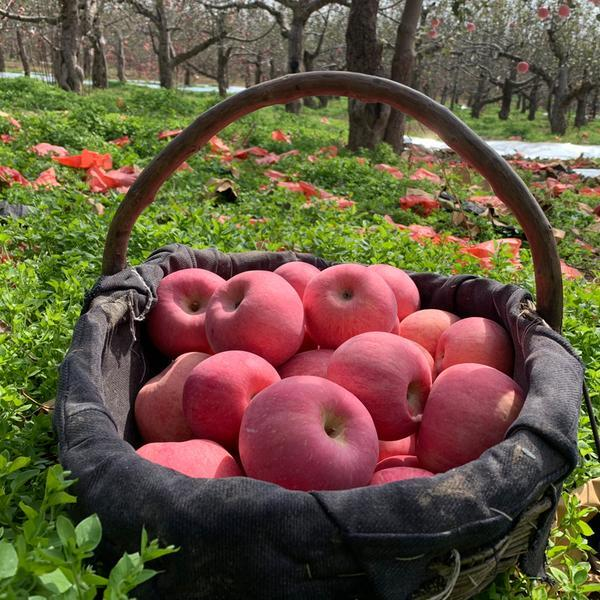apple: (237, 374, 378, 492), (326, 330, 432, 441), (418, 361, 524, 467), (184, 348, 281, 455), (206, 267, 304, 369), (300, 263, 399, 349), (151, 267, 228, 360), (429, 314, 505, 375)
